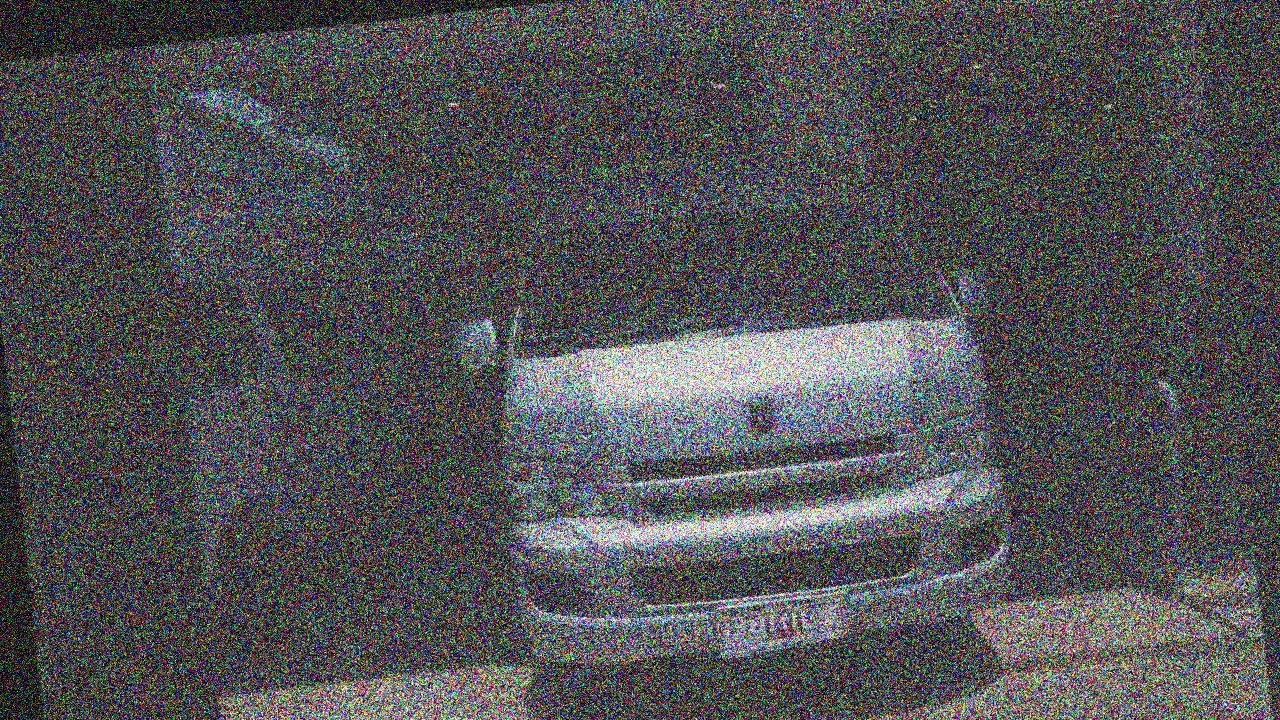van: (425, 119, 1035, 720)
